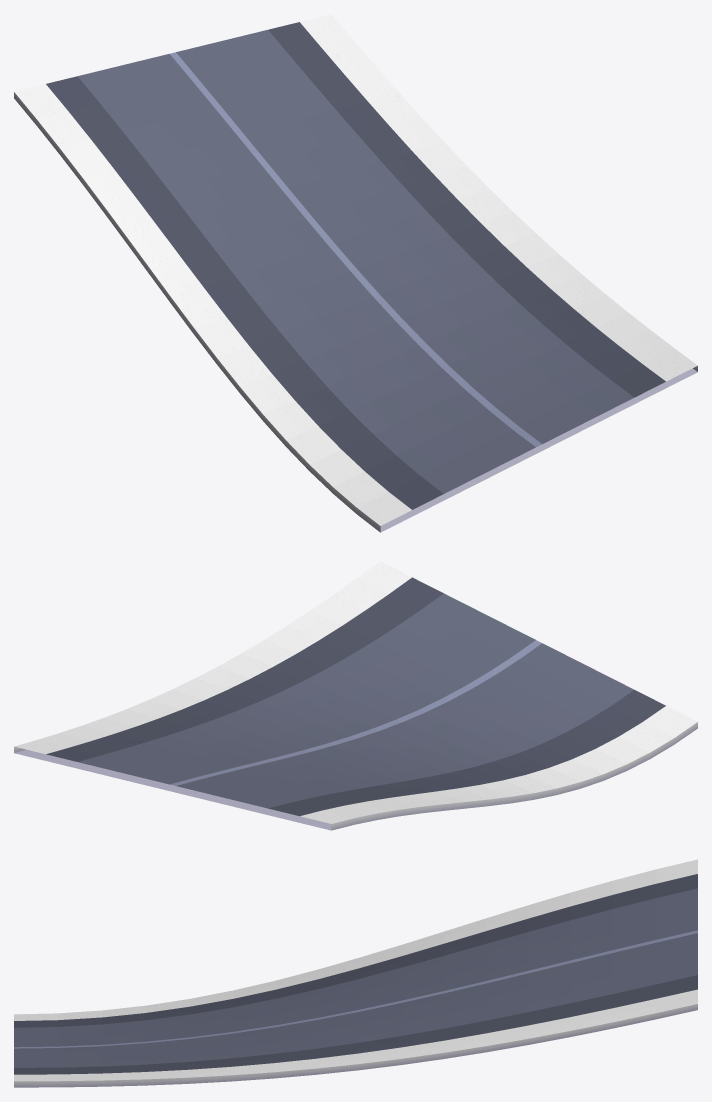
File: road-Straight-HalfBankedLeft-BiSlopeUp-Up2-Center-Size2.glb
3 views of the same model, one above another, from view 1: azimuth 30°, elevation 25°; view 2: azimuth 150°, elevation 25°; view 3: azimuth 270°, elevation 25° (orthographic). The views are drawn at different scales.
Parts seen in each view (by area): view 1: road-Straight-HalfBankedLeft-BiSlopeUp-Up2-Center-Size2; view 2: road-Straight-HalfBankedLeft-BiSlopeUp-Up2-Center-Size2; view 3: road-Straight-HalfBankedLeft-BiSlopeUp-Up2-Center-Size2.
Part boxes in pixels (left/top/right/bottom): road-Straight-HalfBankedLeft-BiSlopeUp-Up2-Center-Size2: left=14, top=14, right=697, bottom=532; road-Straight-HalfBankedLeft-BiSlopeUp-Up2-Center-Size2: left=14, top=561, right=697, bottom=830; road-Straight-HalfBankedLeft-BiSlopeUp-Up2-Center-Size2: left=14, top=859, right=697, bottom=1087.
Size of the model in its own units: 1 by 0.52 by 2.
Materials: 1 (1 with a texture image).
